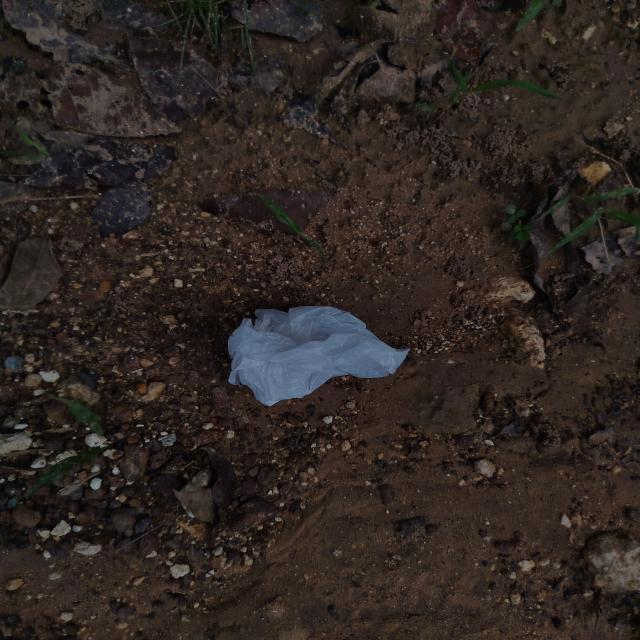residual: (205, 292, 412, 419)
